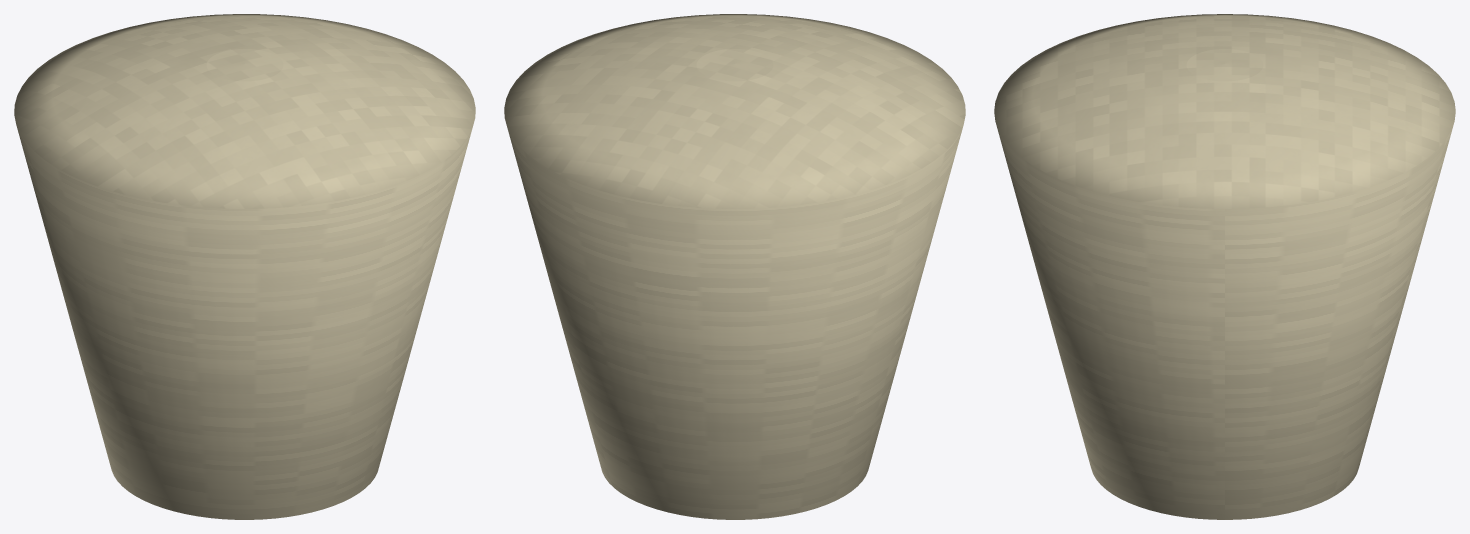
The model's file is CupRice.fbx.
The picture shows the model from 3 angles, left to right: view 1: azimuth 30°, elevation 25°; view 2: azimuth 150°, elevation 25°; view 3: azimuth 270°, elevation 25°; orthographic projection.
Parts seen in each view (by area): view 1: CupRice; view 2: CupRice; view 3: CupRice.
Boxes of the visible parts, <box> form: CupRice: <box>14,14,475,519</box>; CupRice: <box>504,14,965,519</box>; CupRice: <box>994,14,1455,519</box>.
Size of the model in its own units: 0.079 by 0.0754 by 0.079.
Materials: 1 (1 with a texture image).
